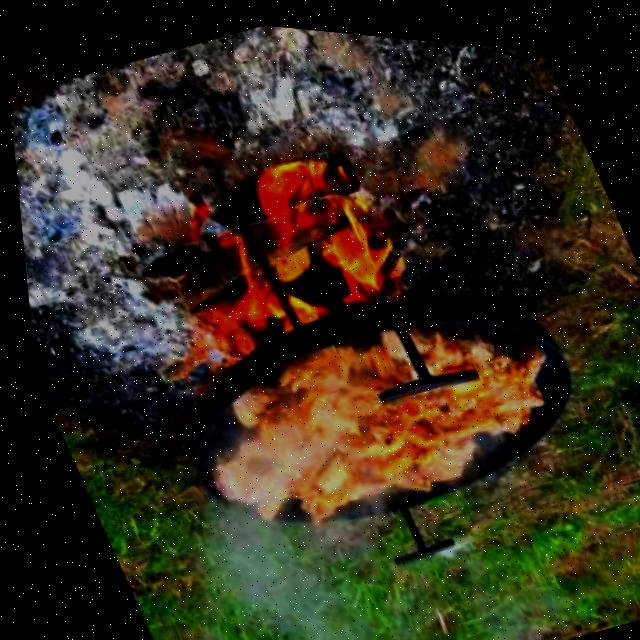Fire: (166, 121, 415, 359)
Smoke: (81, 372, 431, 640)
